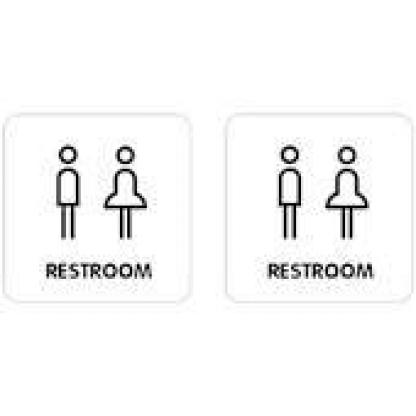toilet: (42, 135, 154, 248), (264, 138, 376, 248)
